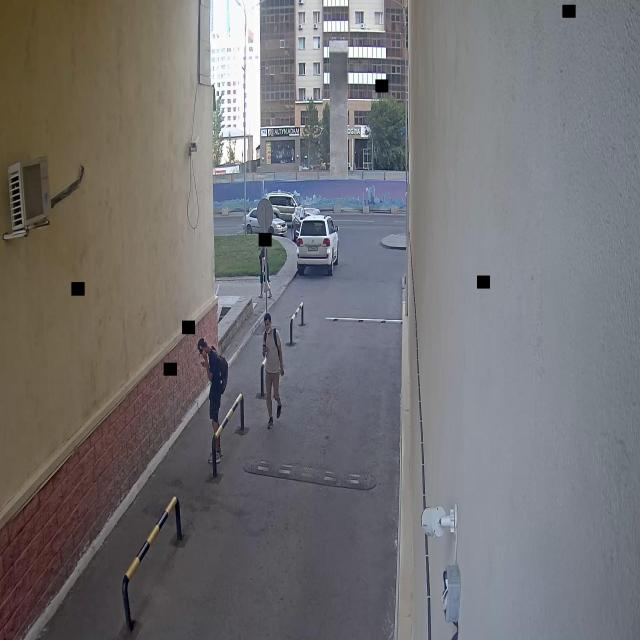backpack: (212, 342, 232, 398)
handbag: (262, 270, 271, 296)
